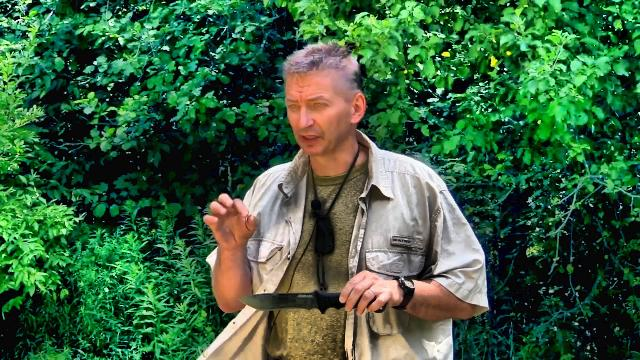knife: (235, 266, 388, 314)
